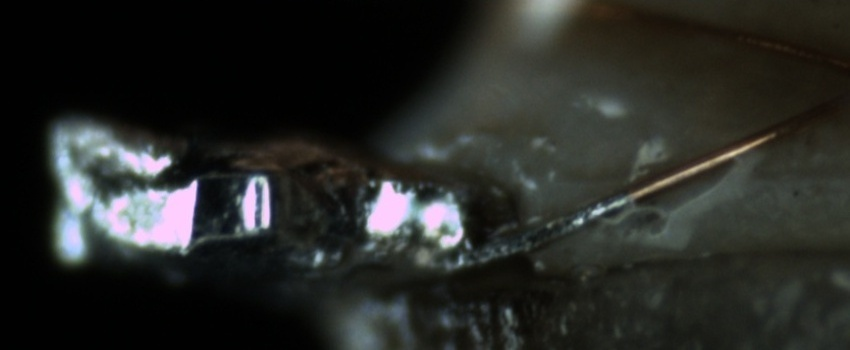TS: (440, 192, 632, 279)
